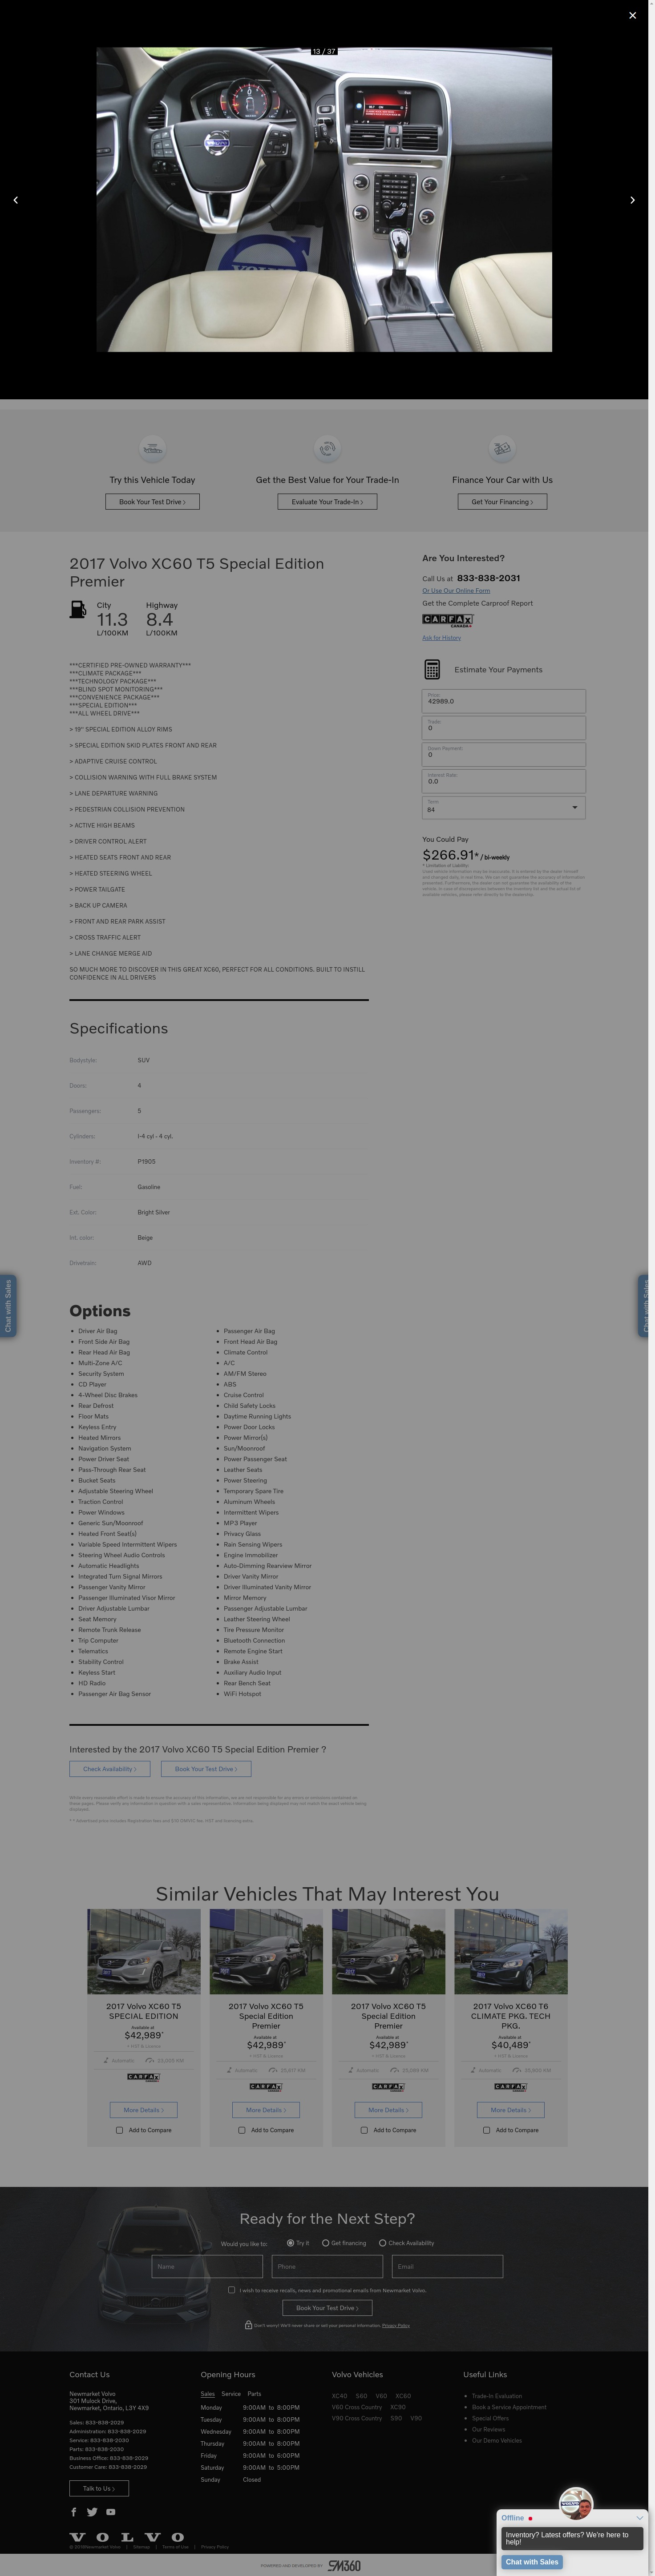car: (630, 197, 635, 205)
